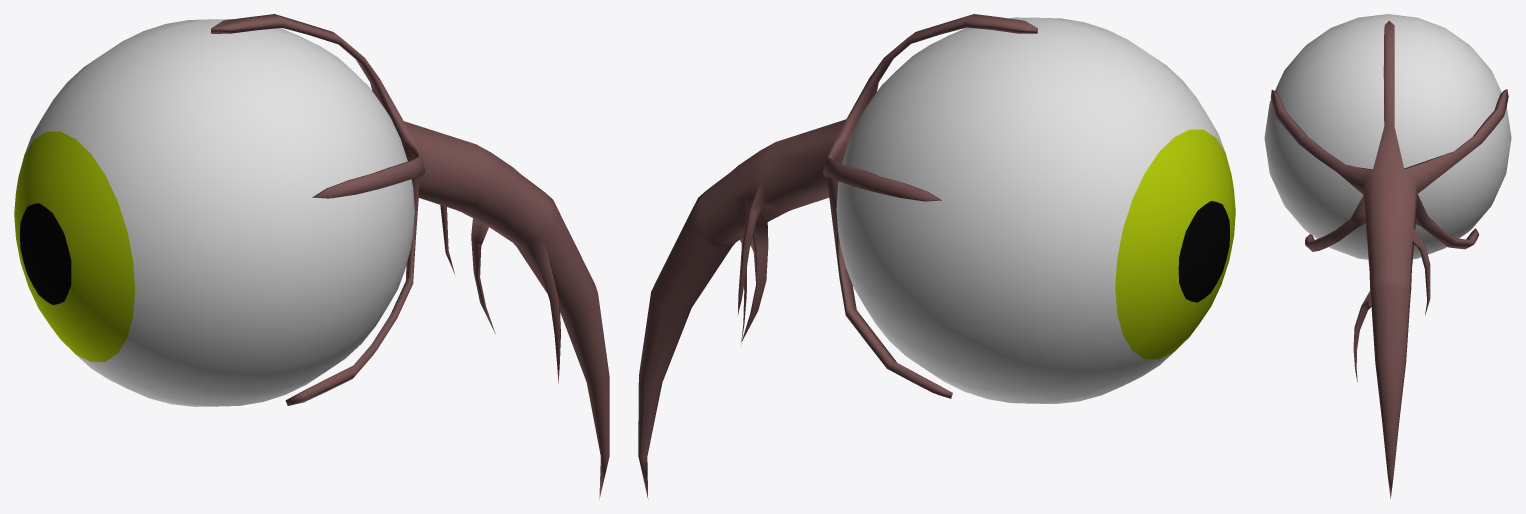
File: eyeball.fbx
3 renders of one model, left to right at view 1: azimuth 30°, elevation 25°; view 2: azimuth 150°, elevation 25°; view 3: azimuth 270°, elevation 25°, orthographic. The views are drawn at different scales.
Parts seen in each view (by area): view 1: eyeball, nerves; view 2: eyeball, nerves; view 3: eyeball, nerves.
Boxes of the visible parts, x1,y1,x2,y2 form: eyeball: (14,19,414,406); nerves: (211,14,609,499); eyeball: (836,17,1235,403); nerves: (638,14,1037,499); eyeball: (1264,14,1511,259); nerves: (1270,20,1508,498).
Size of the model in its own units: 39.19 by 37.19 by 23.16.
